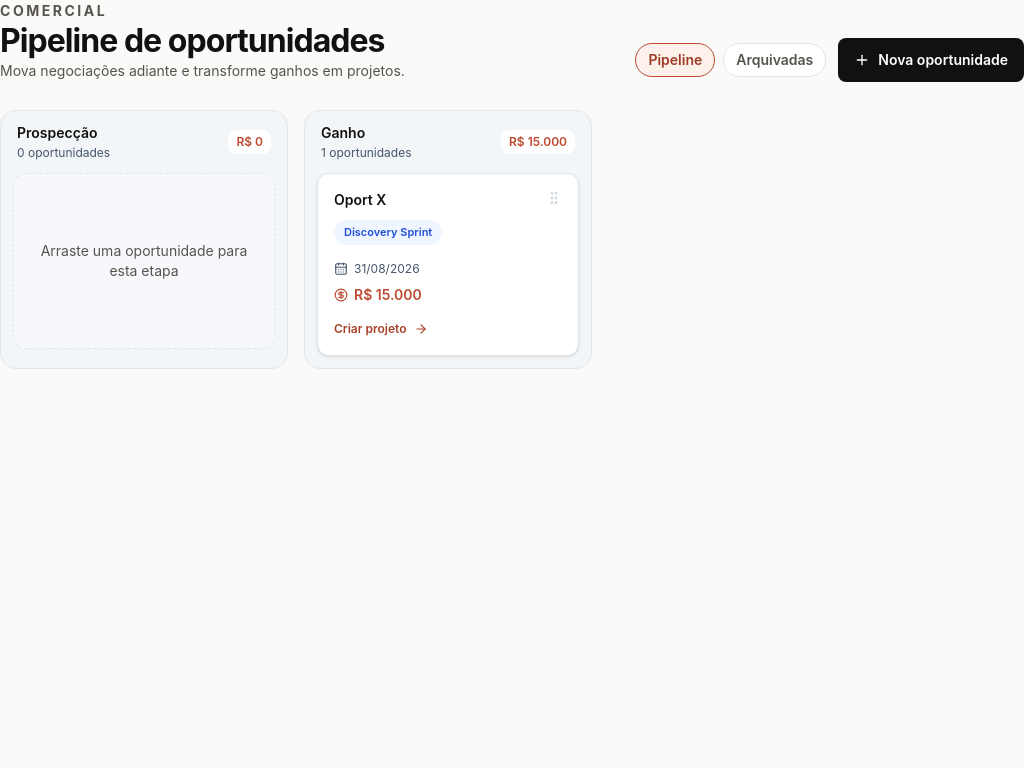
Test: entrega não vê o formulário nem o botão de arquivar de interações no detalhe
This screenshot has width=1024, height=768.
Click the text "Oport X".
click(360, 200)  # box [334,190,386,210]
(page scrolled)
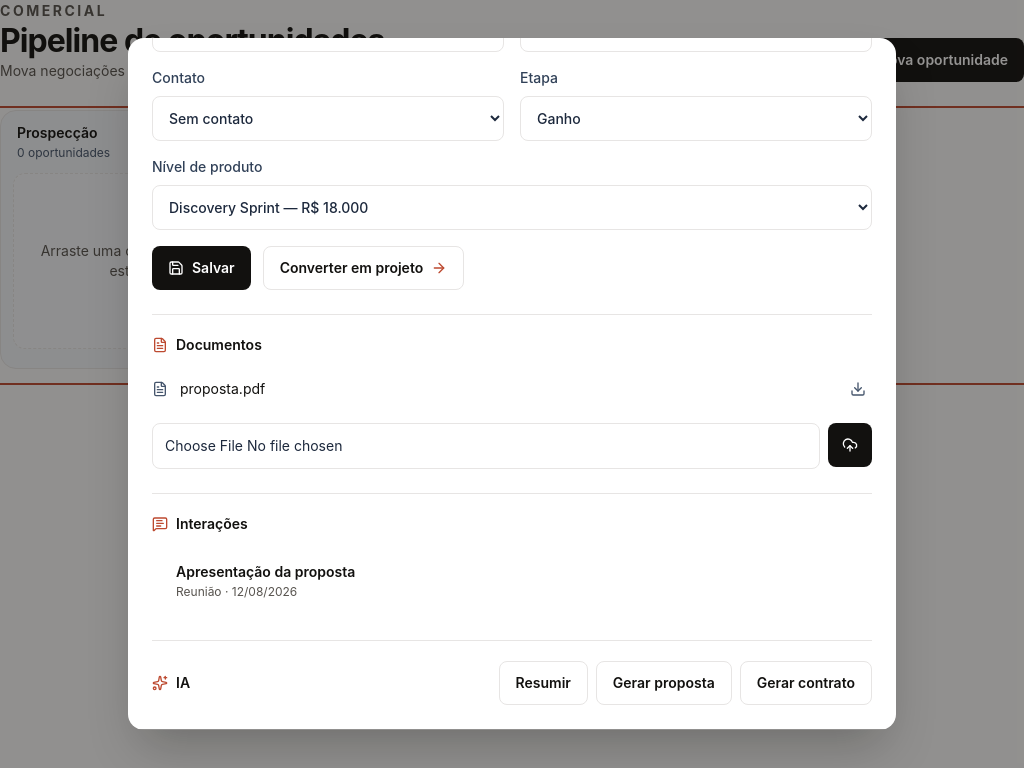
Expected: the text "Apresentação da proposta" is shown, [176,563,355,580]
